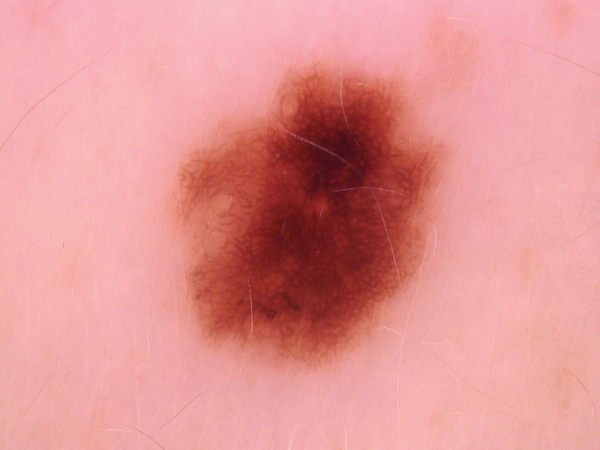Detected Lesion: (174, 62, 452, 372)
